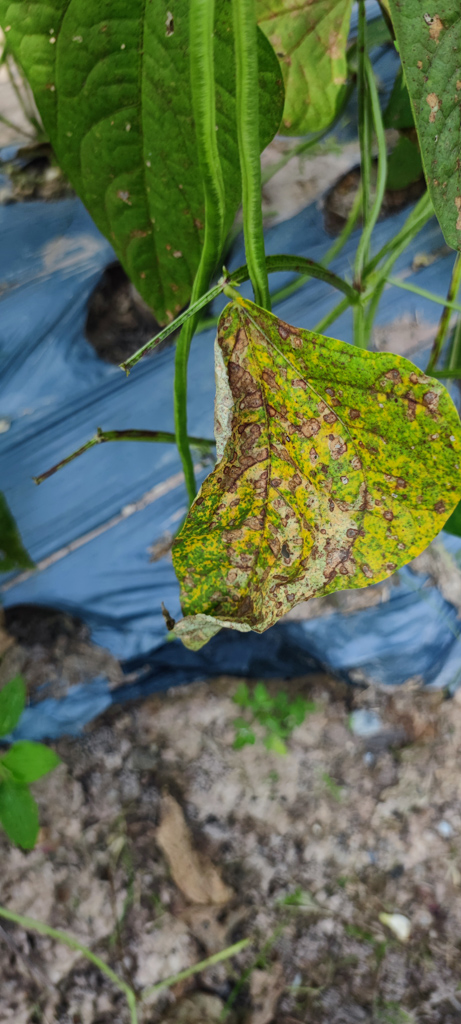Rust: (169, 300, 456, 655)
